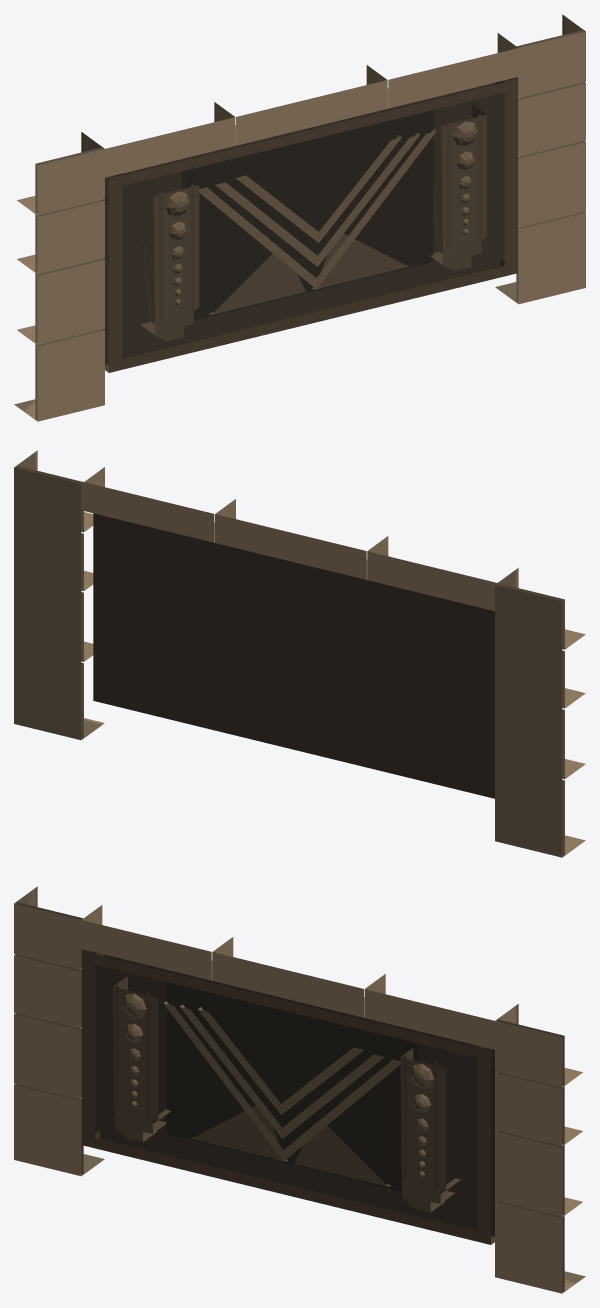
File: huangpu-chekiang-bank-chevron-doorhead-lod.glb
3 views of the same model, one above another, from view 1: azimuth 30°, elevation 25°; view 2: azimuth 150°, elevation 25°; view 3: azimuth 330°, elevation 25° (orthographic).
Visible parts, largest first — view 1: 浙江实业银行大楼福州路入口折线门楣与串珠; view 2: 浙江实业银行大楼福州路入口折线门楣与串珠; view 3: 浙江实业银行大楼福州路入口折线门楣与串珠.
Part boxes in pixels (x1,y1,x2,y2): 浙江实业银行大楼福州路入口折线门楣与串珠: (14, 14, 585, 421); 浙江实业银行大楼福州路入口折线门楣与串珠: (14, 450, 585, 857); 浙江实业银行大楼福州路入口折线门楣与串珠: (14, 886, 585, 1293).
Bounding box in the file's own units: 2.44 × 1.09 × 0.287.
